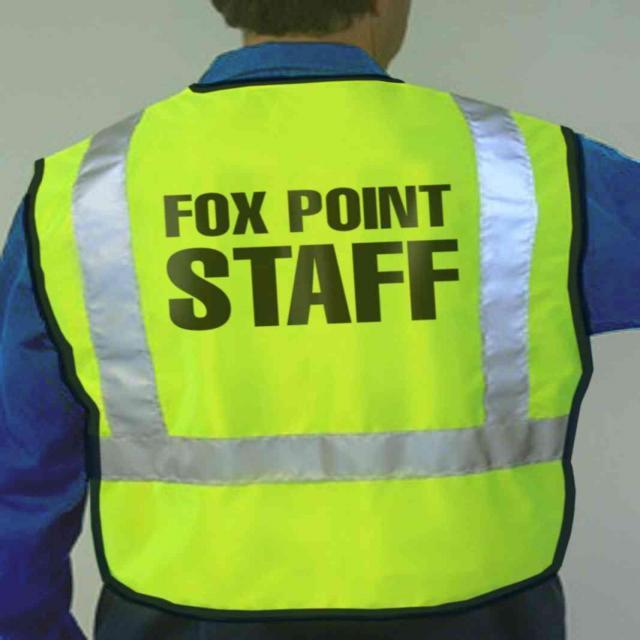person_with_vest: (3, 66, 640, 640)
